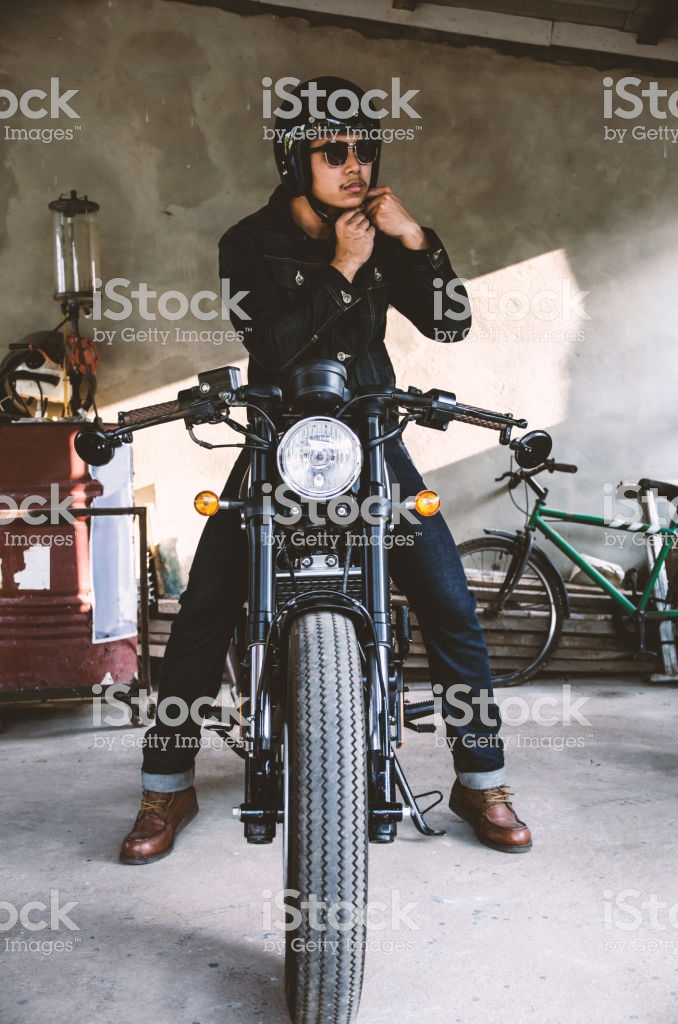helmet: (270, 73, 384, 171)
